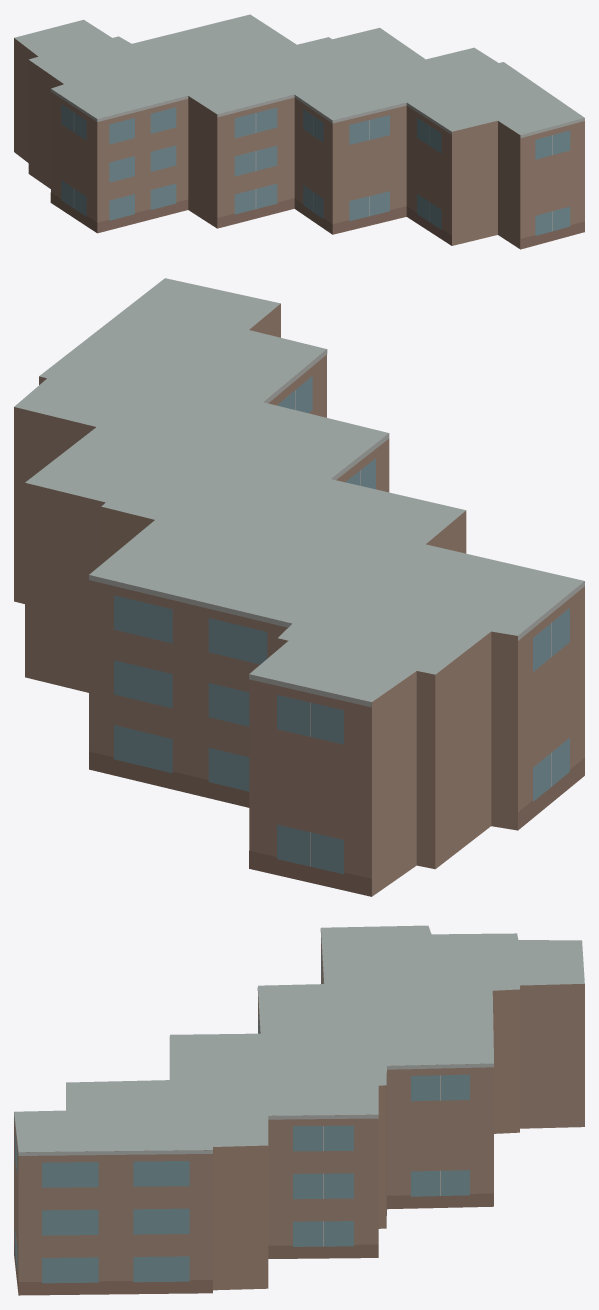
The model's file is survey-upis-33025173.glb.
3 renders of one model, top to bottom at view 1: azimuth 30°, elevation 25°; view 2: azimuth 150°, elevation 25°; view 3: azimuth 270°, elevation 25°, orthographic. The views are drawn at different scales.
Visible parts, largest first — view 1: survey-upis-33025173.tmp; view 2: survey-upis-33025173.tmp; view 3: survey-upis-33025173.tmp.
Boxes of the visible parts, x1,y1,x2,y2 form: survey-upis-33025173.tmp: [14, 14, 584, 249]; survey-upis-33025173.tmp: [14, 278, 584, 896]; survey-upis-33025173.tmp: [14, 925, 584, 1295].
Size of the model in its own units: 31.07 by 9.15 by 33.06.
